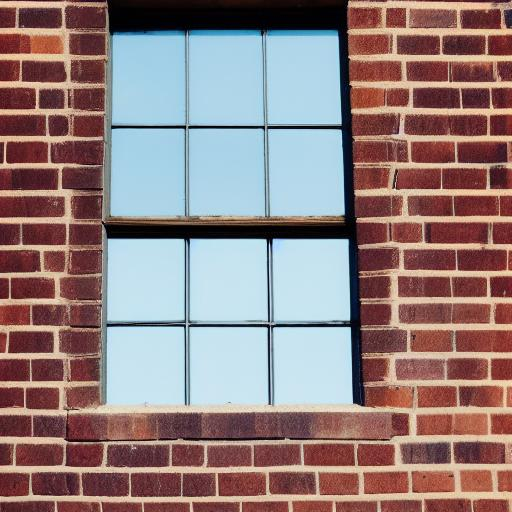Window: (68, 3, 392, 441)
